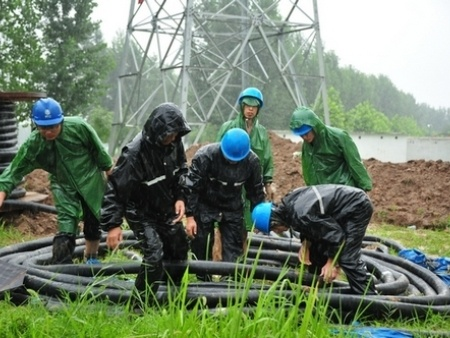blue: (251, 196, 288, 238), (30, 97, 65, 139), (215, 125, 252, 164), (288, 107, 316, 143), (237, 86, 264, 119)
